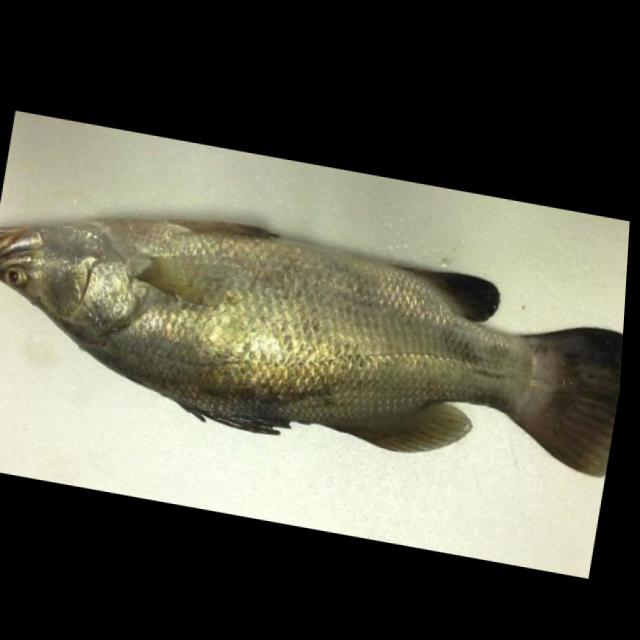Seabass: (0, 176, 630, 498)
